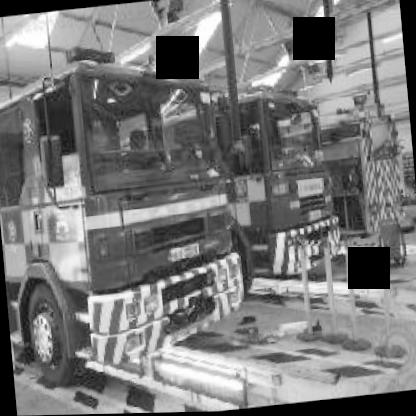emergency: (0, 15, 278, 384), (204, 56, 380, 289), (300, 87, 415, 253)
